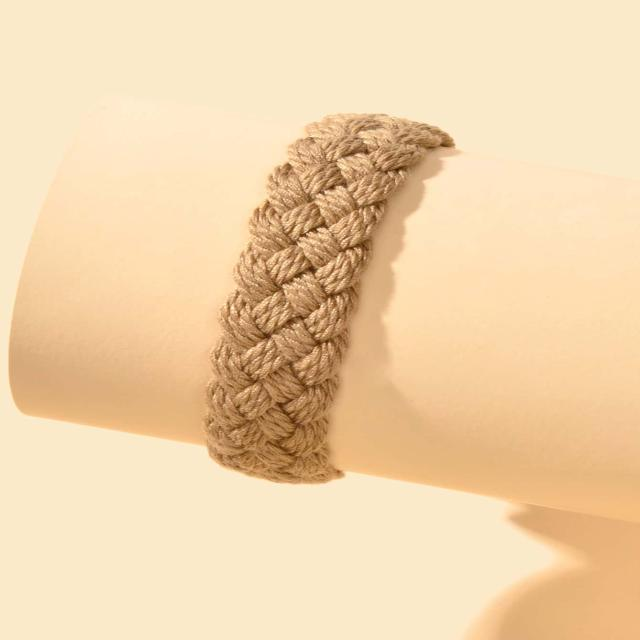bracelet: (155, 49, 470, 540)
